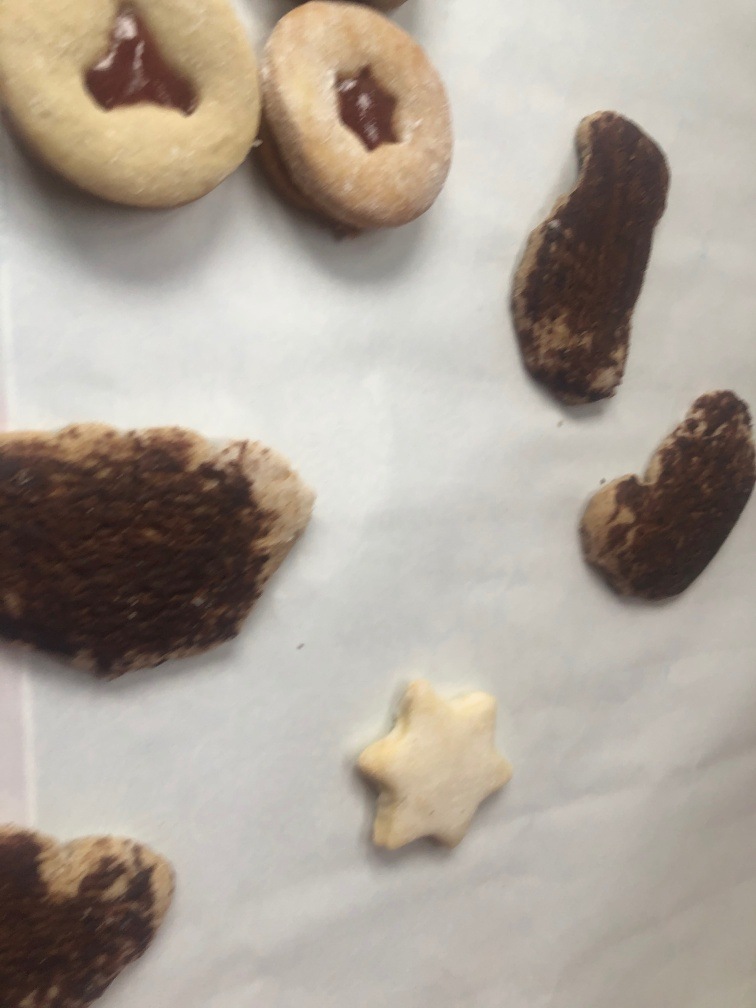christmas shortbread with jam: (1, 1, 264, 219), (258, 4, 454, 241)
star: (352, 669, 521, 868)
weird #1: (3, 417, 318, 688), (508, 98, 670, 416), (575, 386, 755, 608), (1, 817, 183, 1008)
